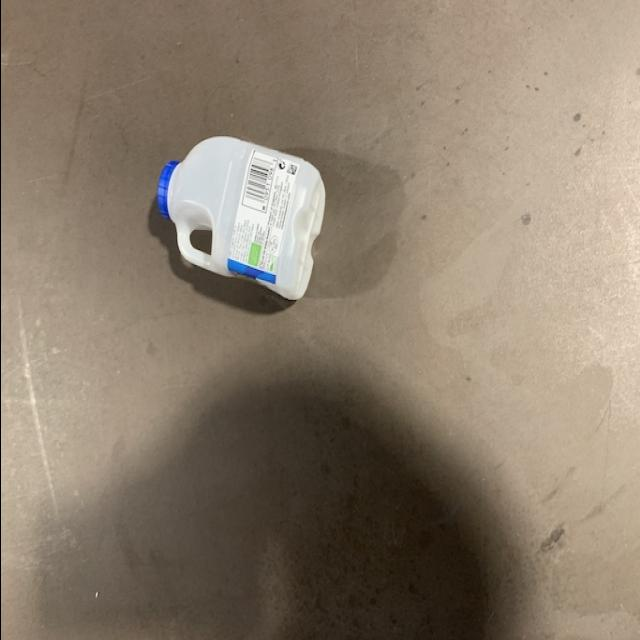HDPEM: (153, 138, 327, 302)
